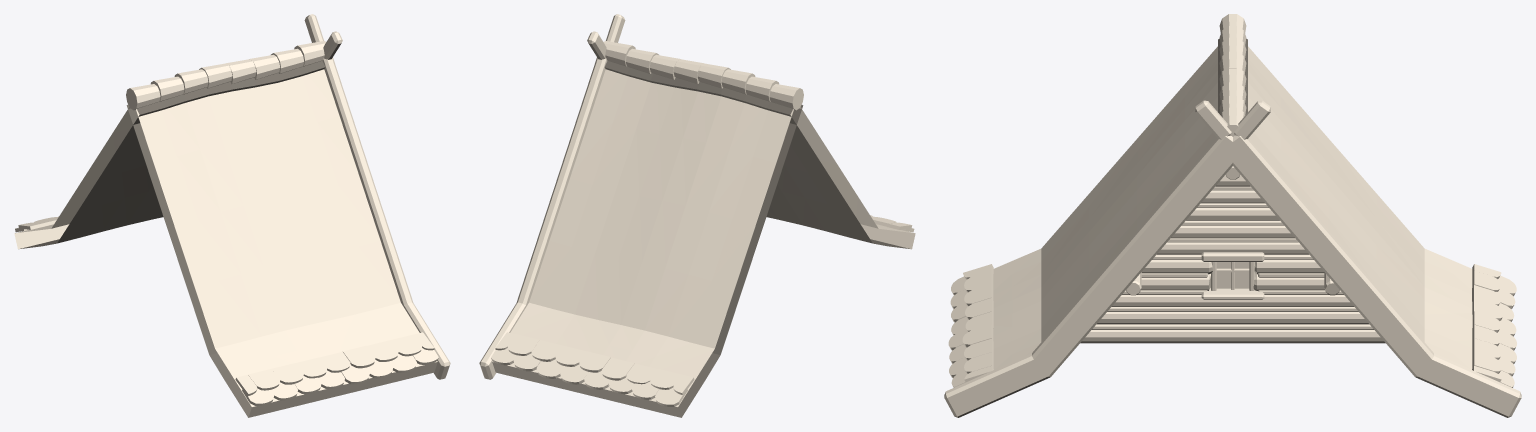
The model's file is SM_VK_Roof_Gable_Logs.fbx.
3 renders of one model, left to right at view 1: azimuth 30°, elevation 25°; view 2: azimuth 150°, elevation 25°; view 3: azimuth 270°, elevation 25°, orthographic. The views are drawn at different scales.
Visible parts, largest first — view 1: SM_VK_Roof_Gable_Logs.001; view 2: SM_VK_Roof_Gable_Logs.001; view 3: SM_VK_Roof_Gable_Logs.001.
Boxes of the visible parts, box(x1,y1,x2,y2) form: SM_VK_Roof_Gable_Logs.001: box(14, 14, 450, 417); SM_VK_Roof_Gable_Logs.001: box(479, 14, 915, 417); SM_VK_Roof_Gable_Logs.001: box(944, 14, 1521, 417).
Bounding box in the file's own units: 4.16 × 5.44 × 9.04.
